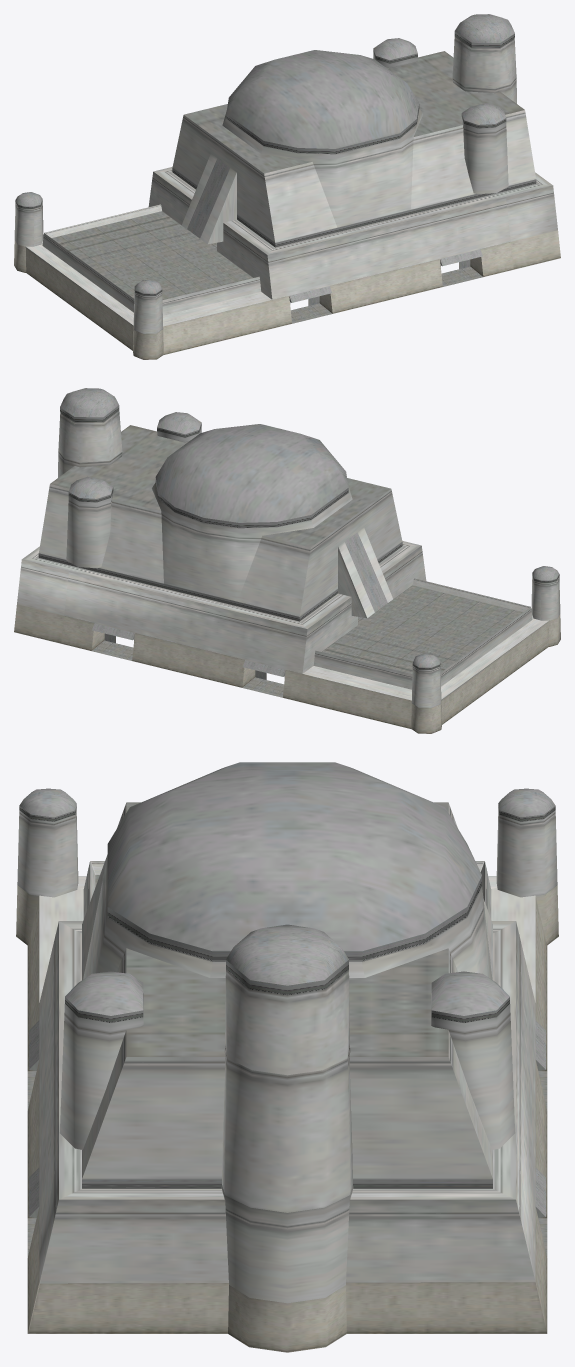
Rendered from mun_corl_hospital_s01_r0_mesh_l2.fbx.
3 renders of one model, top to bottom at view 1: azimuth 30°, elevation 25°; view 2: azimuth 150°, elevation 25°; view 3: azimuth 270°, elevation 25°, orthographic. The views are drawn at different scales.
Visible parts, largest first — view 1: mesh_node; view 2: mesh_node; view 3: mesh_node.
Part boxes in pixels (left/top/right/bottom): mesh_node: left=14, top=14, right=560, bottom=359; mesh_node: left=14, top=388, right=560, bottom=733; mesh_node: left=16, top=762, right=558, bottom=1352.
Bounding box in the file's own units: 97.78 × 41.29 × 52.24.
